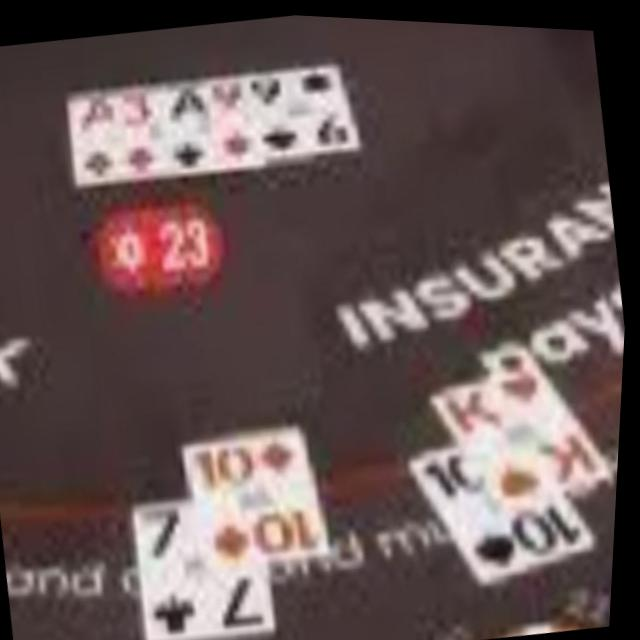Card-10: (413, 440, 600, 578), (186, 420, 335, 569)
Card-3: (122, 89, 171, 178)
Card-7: (138, 499, 281, 640)
Card-9: (251, 62, 359, 158), (210, 73, 264, 172)
Card-A: (69, 89, 126, 183), (164, 81, 217, 172)
Card-K: (436, 354, 615, 508)
